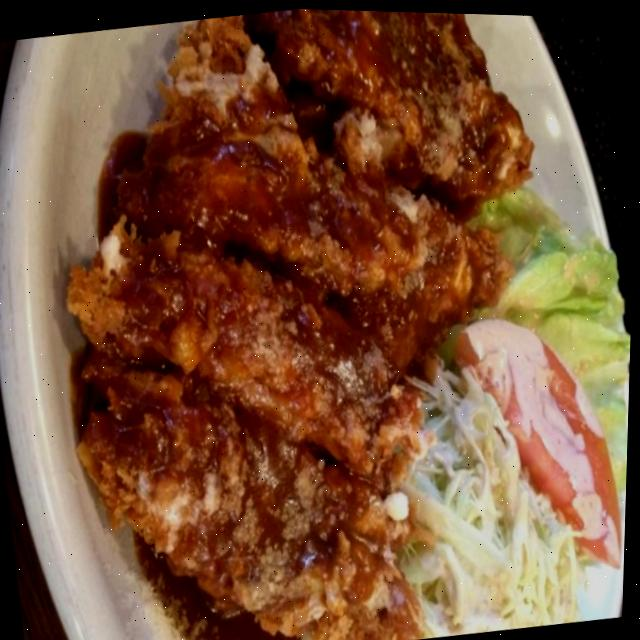鸡肉料理 含炸鸡: (3, 0, 639, 640)
